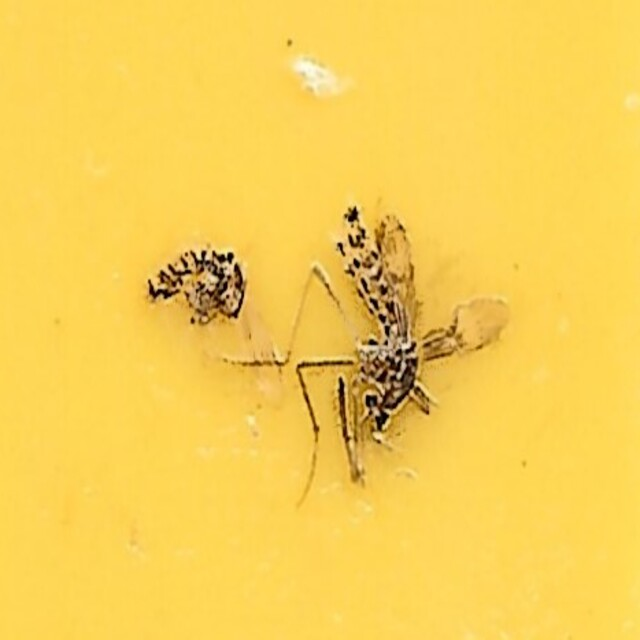Nematocera: (328, 193, 503, 447), (137, 239, 249, 339)
